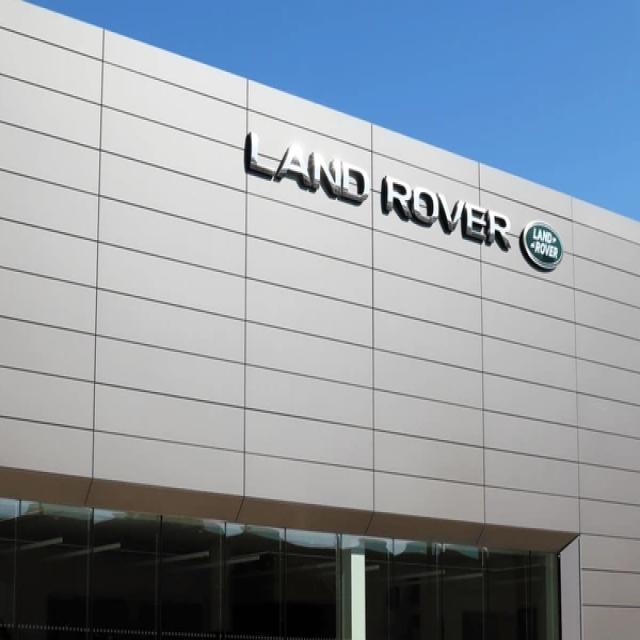landrover: (237, 123, 518, 260)
